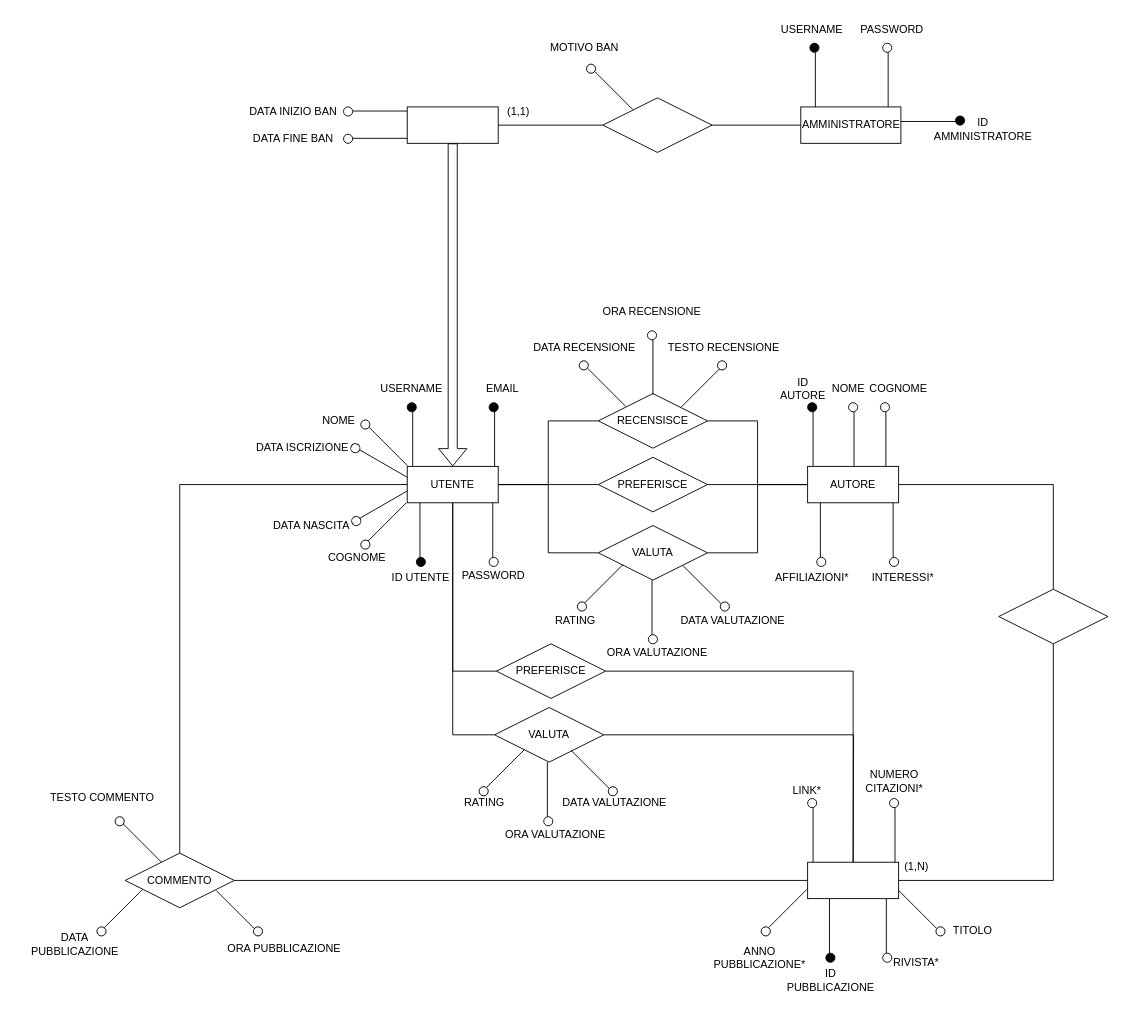
The diagram is 1124 pixels wide and 1009 high, and some of its shapes have lost their labels. The centre of each missing label's shape, as x and y in pixels:
"BANNA" goes at pixel 657 124.
"PUBBLICAZIONE" goes at pixel 853 880.
"REDIGE" goes at pixel 1053 616.
"UTENTE BANNATO" goes at pixel 452 124.
